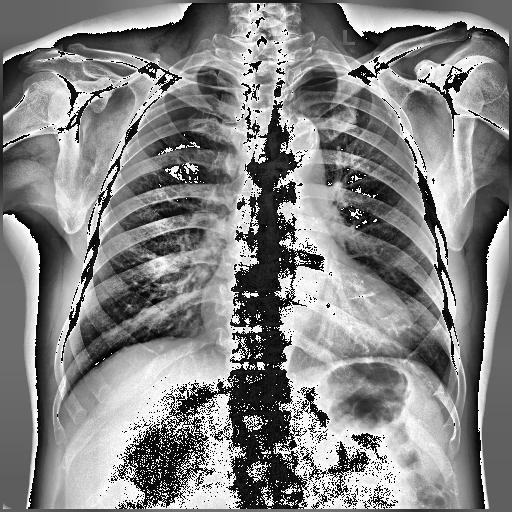0- Aortic enlargement: (272, 112, 330, 192), (270, 114, 327, 190), (288, 116, 322, 178)
3- Cardiomegaly: (199, 270, 414, 355), (198, 276, 418, 357), (200, 282, 412, 354)
